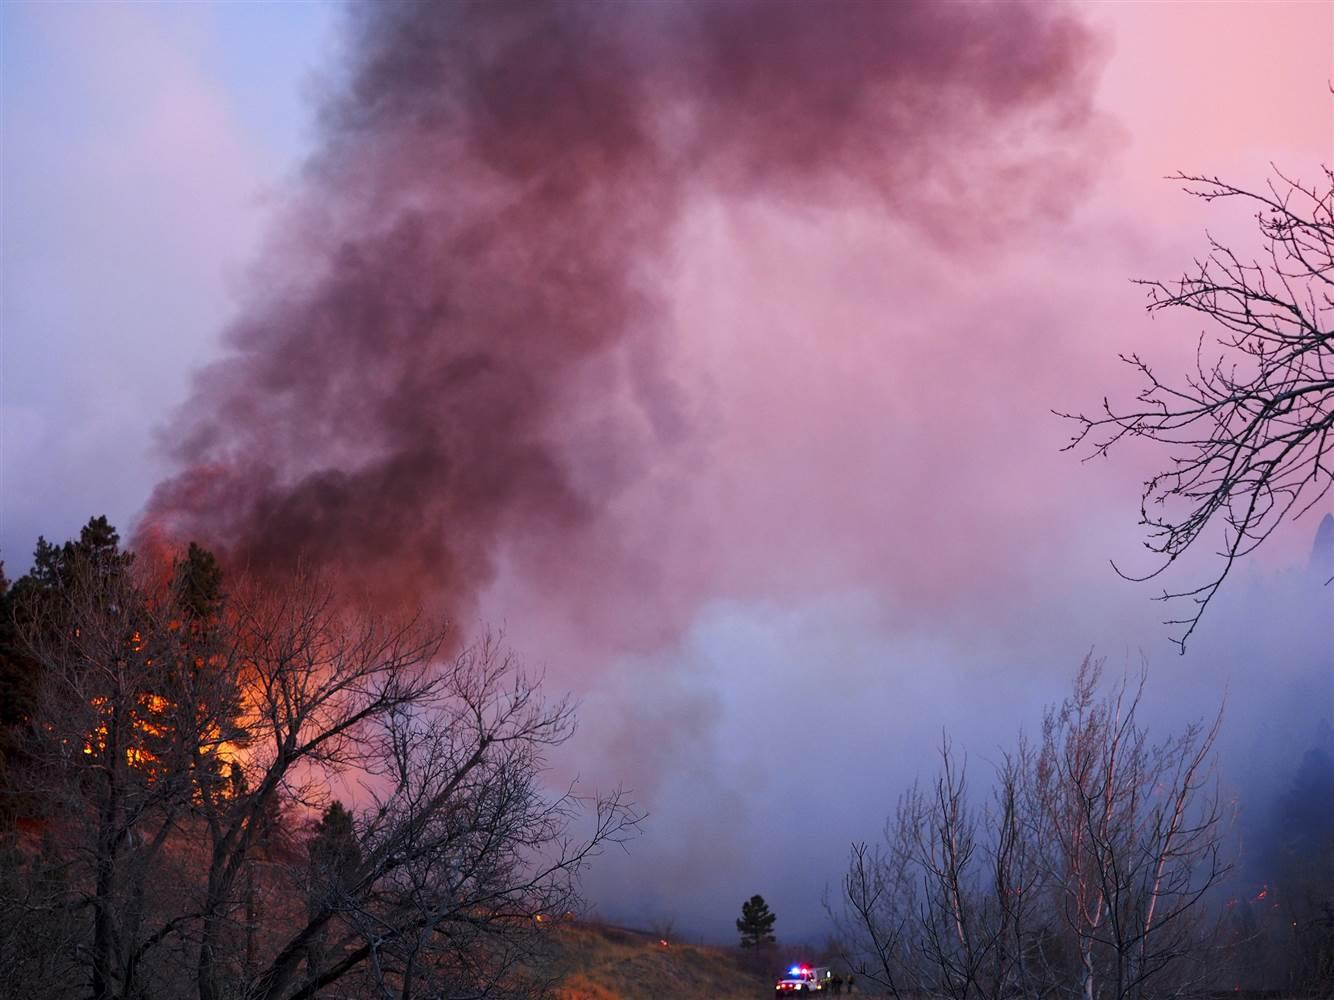fire: (45, 623, 376, 848)
